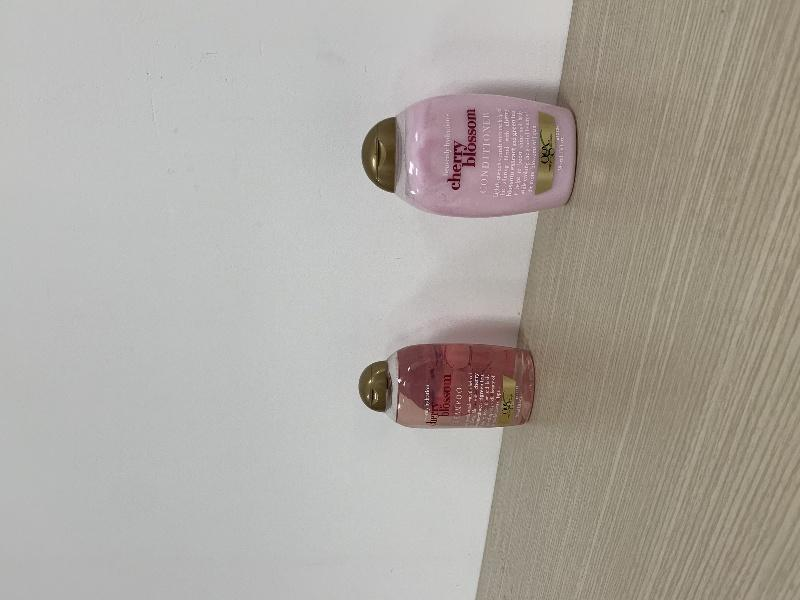CherryBlossom_Conditioner: (361, 93, 577, 218)
CherryBlossom_Shampoo: (359, 343, 534, 429)
